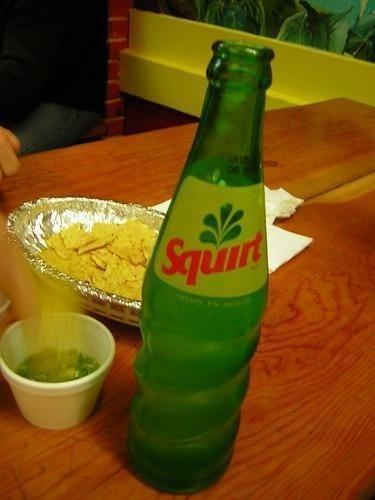bottle-glass: (123, 39, 276, 494)
